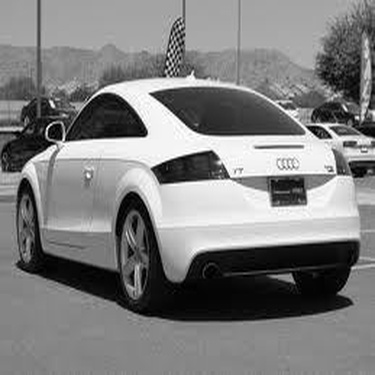car: (15, 76, 375, 307), (15, 85, 102, 138), (304, 118, 375, 157)
